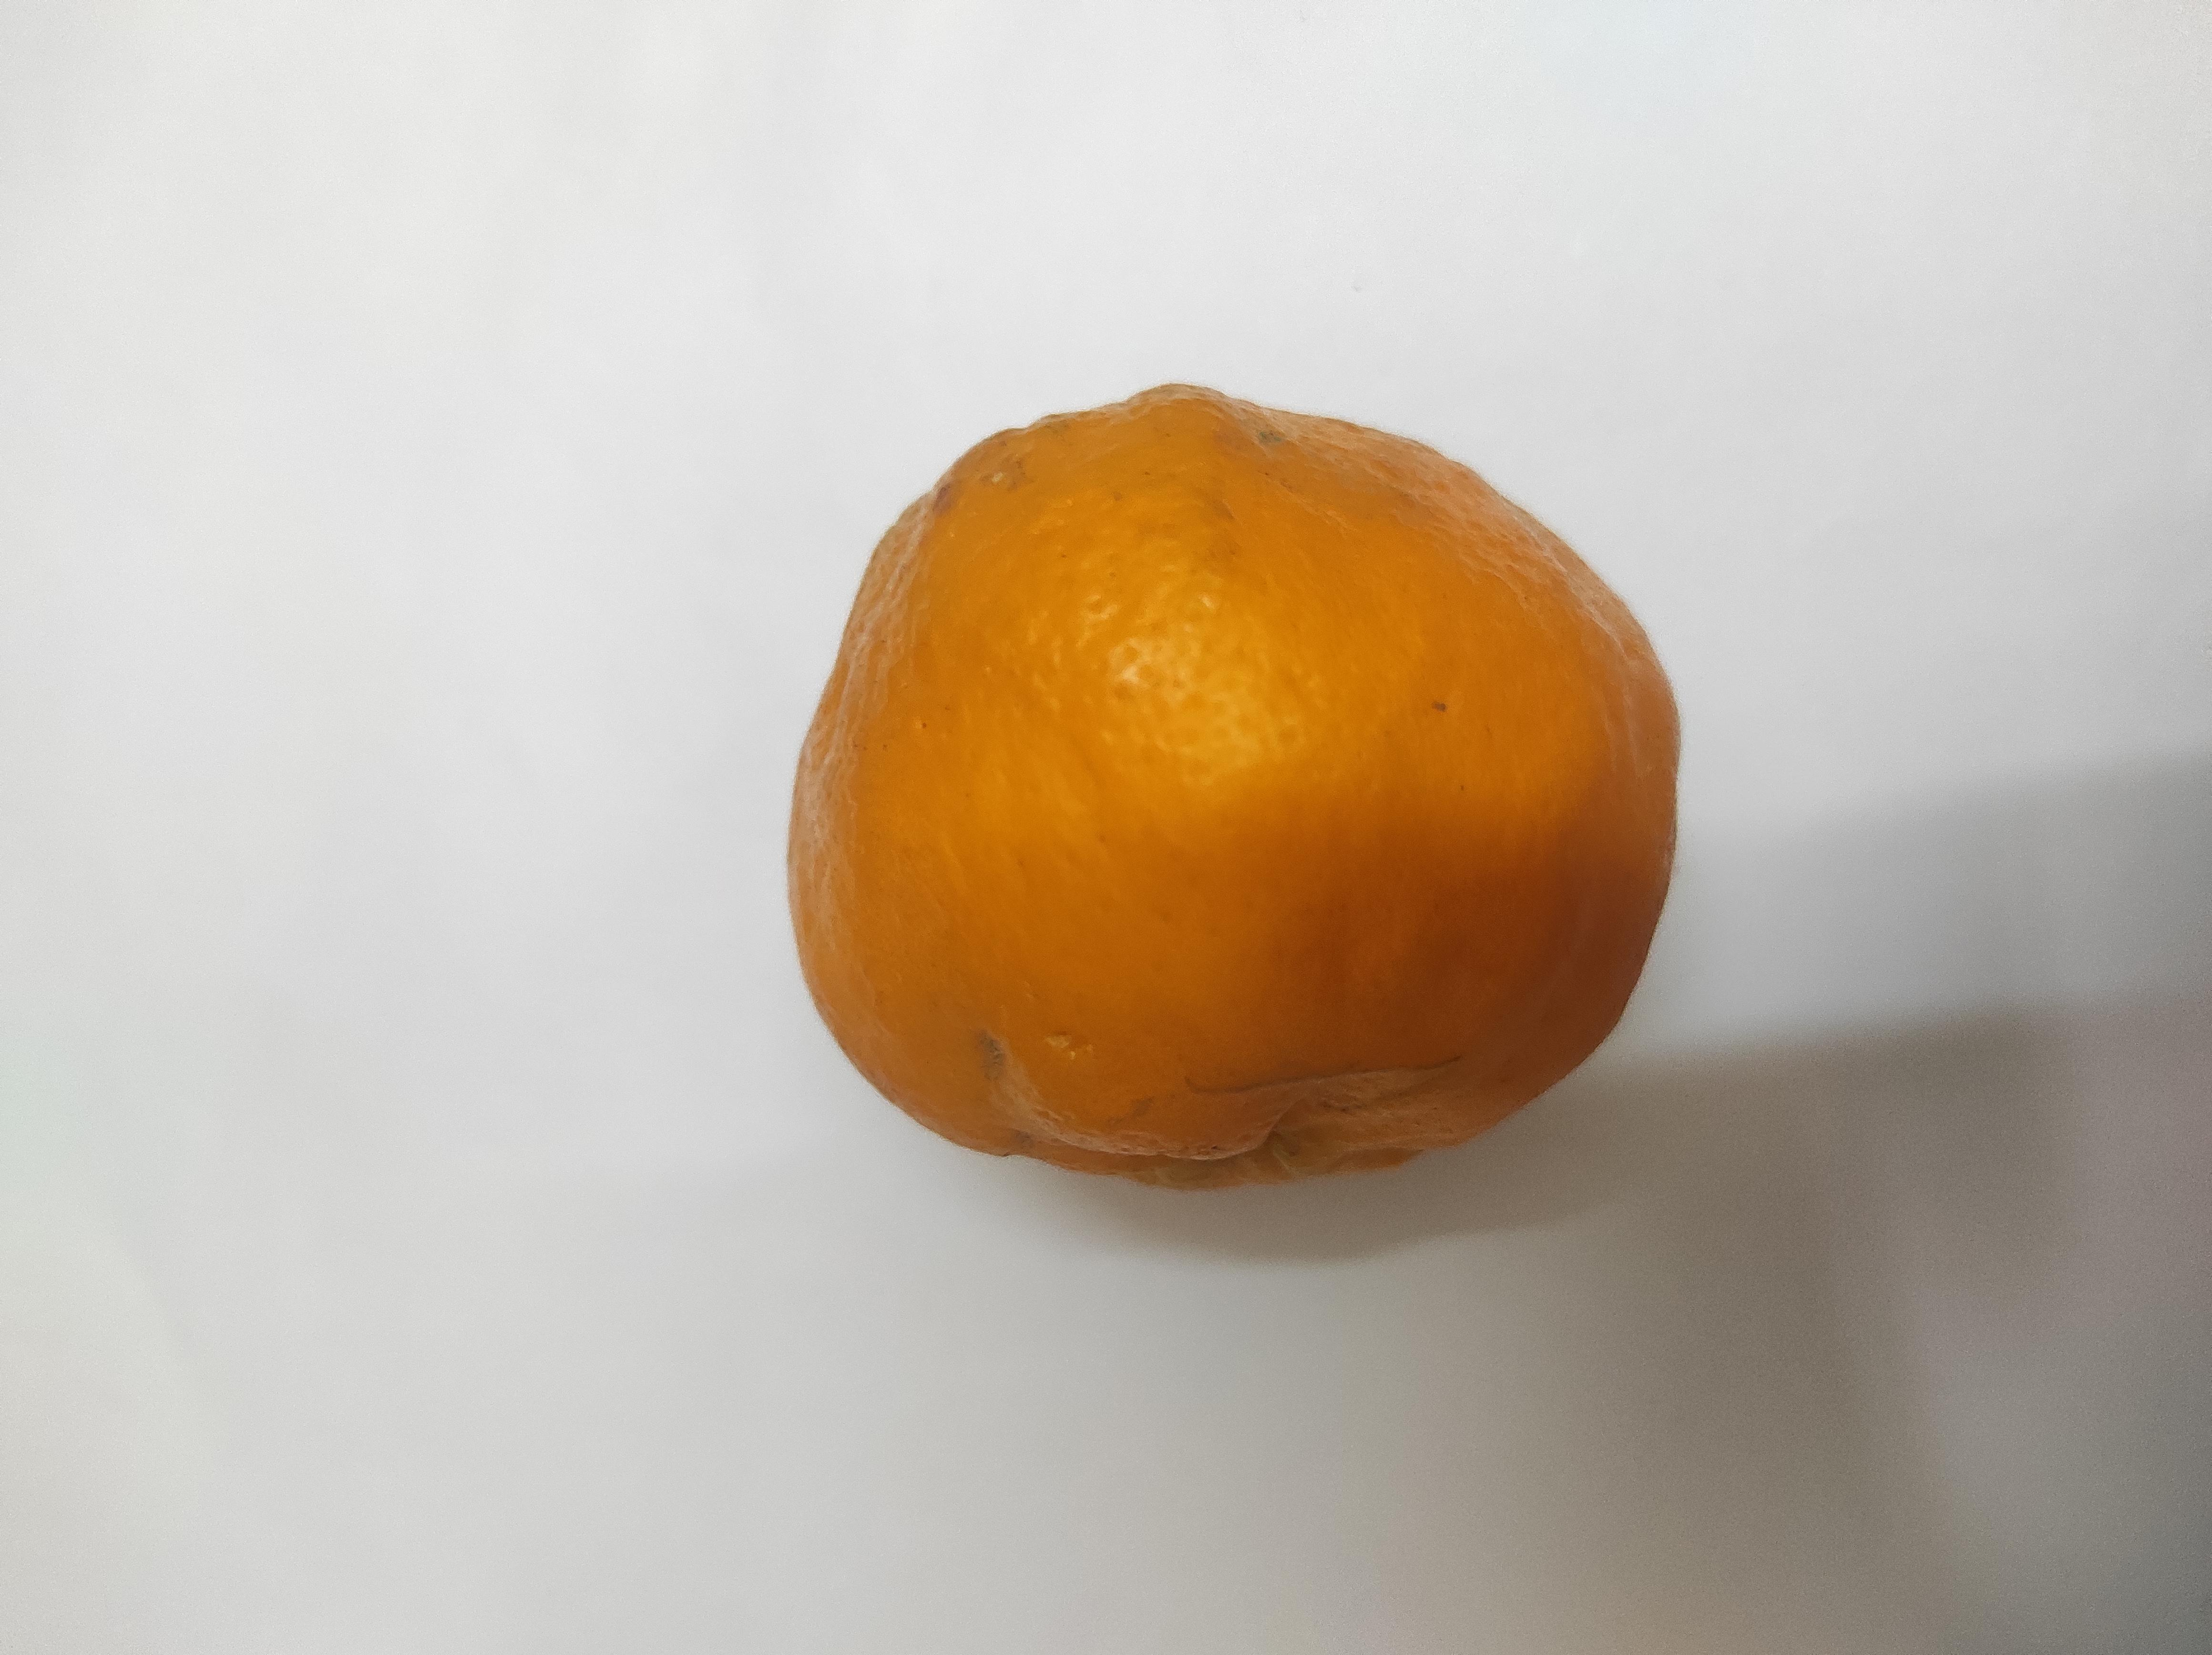Ripe: (656, 589, 1715, 1273)
